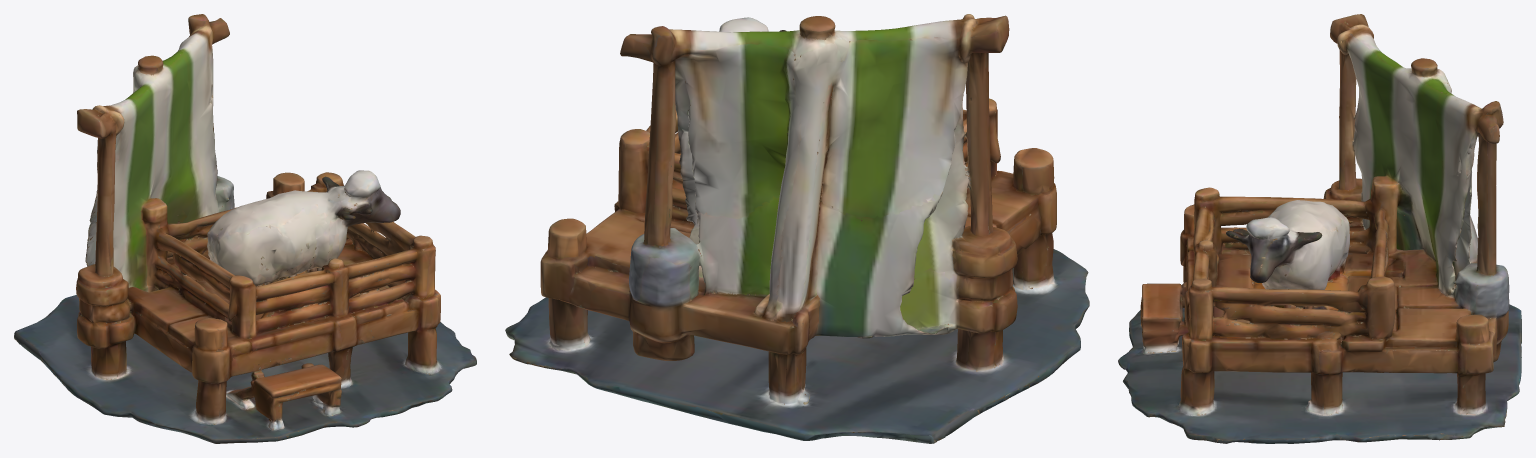
Rendered from port-sheep.glb.
3 views of the same model, side by side, from view 1: azimuth 30°, elevation 25°; view 2: azimuth 150°, elevation 25°; view 3: azimuth 270°, elevation 25° (orthographic). The views are drawn at different scales.
Size of the model in its own units: 2 by 1.5 by 2.
1 material, 1 textured.
